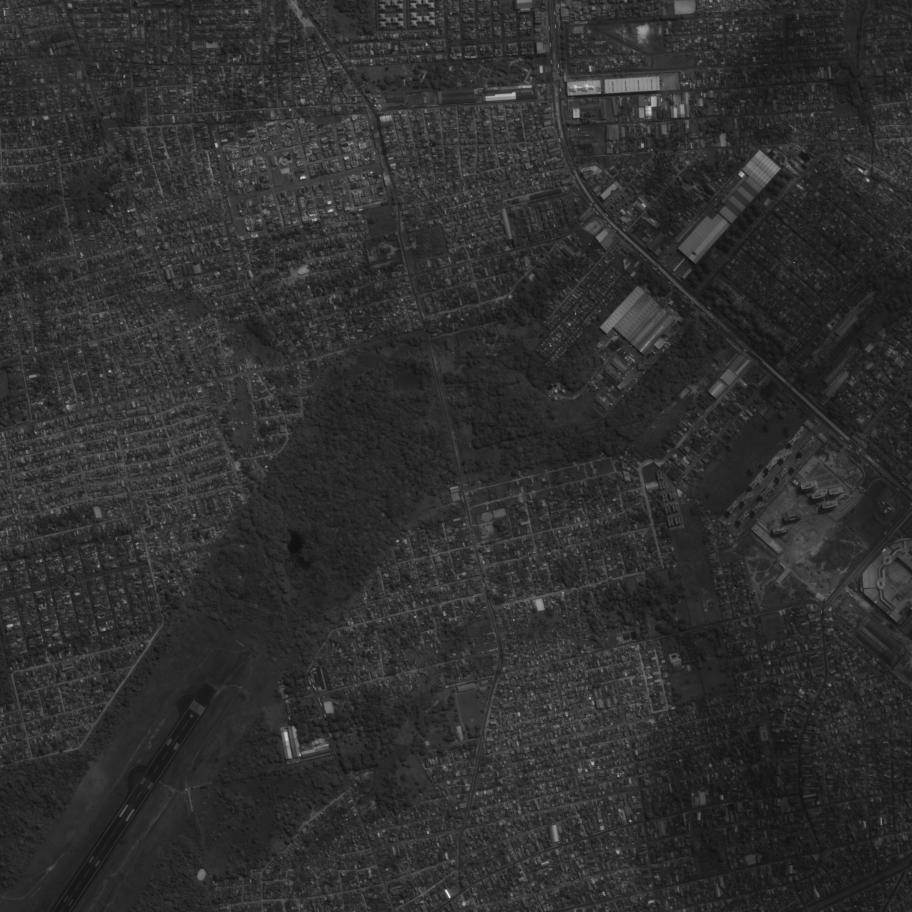storage-tank: (561, 389, 566, 394), (554, 389, 558, 394), (549, 391, 554, 395), (593, 385, 597, 387), (596, 387, 598, 390)
